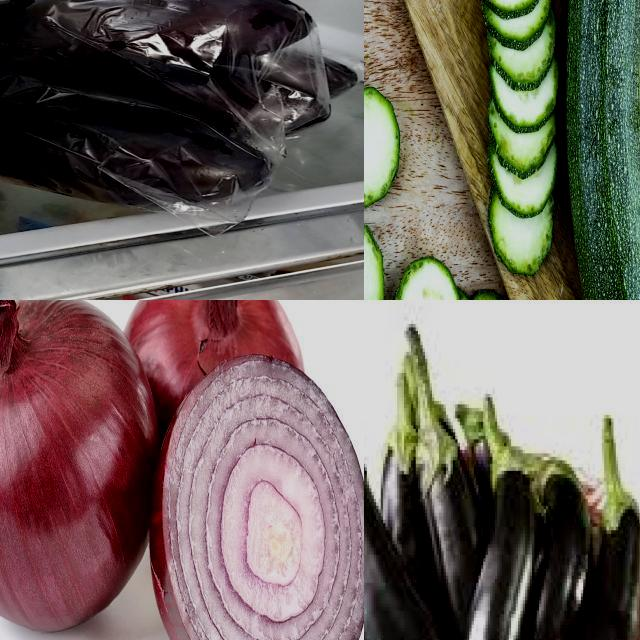eggplant: (1, 63, 330, 147), (1, 91, 217, 208), (365, 415, 470, 640), (1, 1, 311, 73), (521, 440, 588, 640), (460, 447, 528, 640), (570, 485, 640, 640)
onion: (154, 357, 365, 640), (1, 301, 156, 640), (122, 301, 307, 540)
zucchini: (560, 1, 640, 301)
